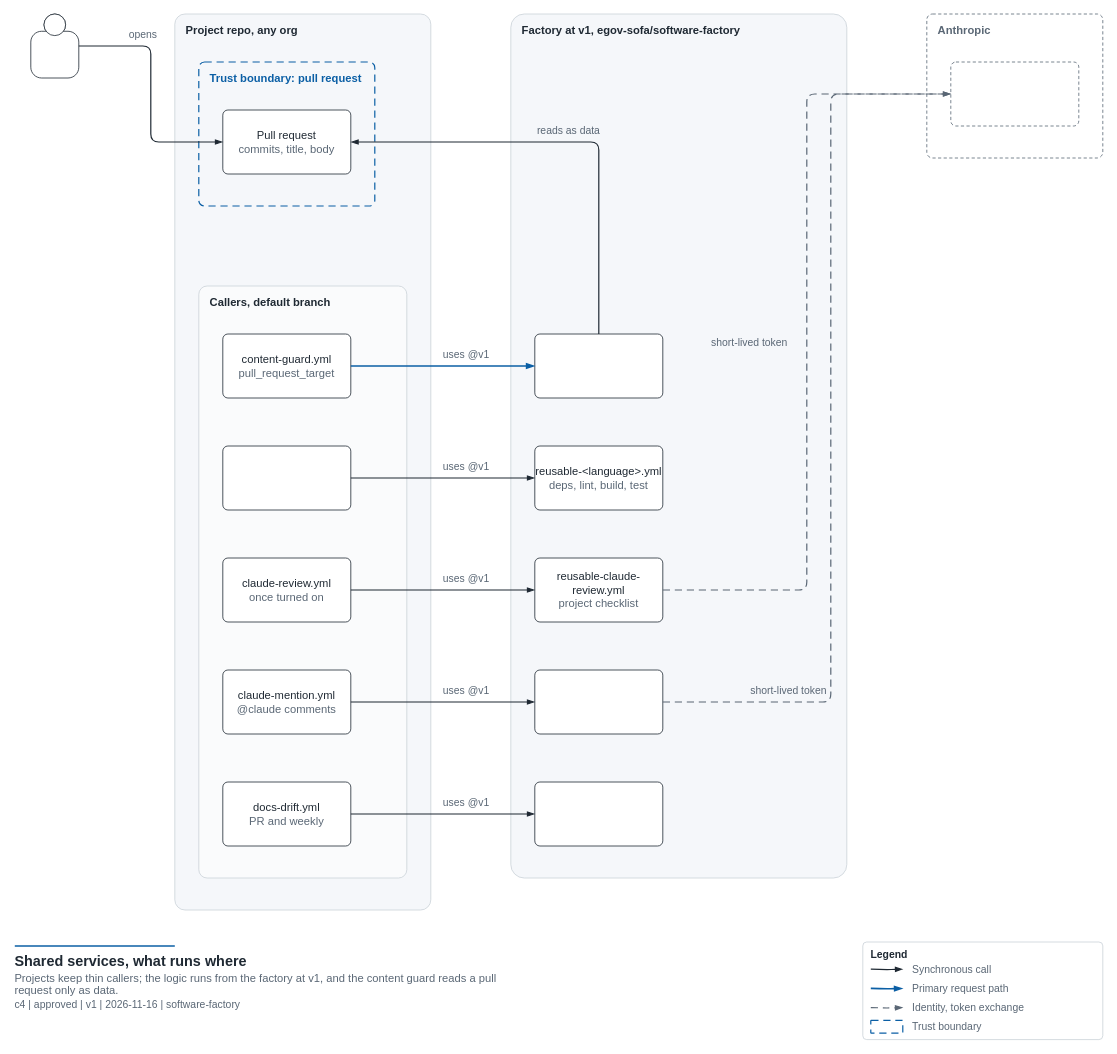
The diagram is 1117 pixels wide and 1054 high, and some of its shapes have lost their labels. Here are the shapes that lost their labels. From the top down, the centre of each, then its label:
At (54,45): "Contributor".
At (1014,93): "Claude API workload identity federation".
At (598,365): "content-guard action factory copy, python3 -I".
At (286,477): "ci.yml on push and PR".
At (598,701): "reusable-claude-mention.yml write access only".
At (598,813): "docs-drift action factory copy, python -I".
